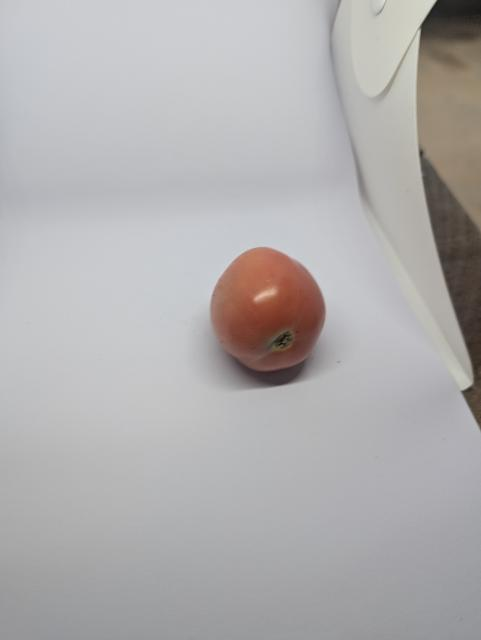red: (189, 228, 372, 391)
